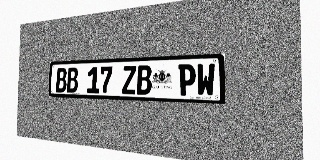1: (87, 67, 99, 93)
7: (99, 66, 113, 94)
B: (137, 65, 152, 95), (67, 67, 78, 93), (56, 68, 67, 93)
P: (178, 64, 196, 96)
W: (196, 63, 215, 97)
Z: (122, 66, 136, 94)
